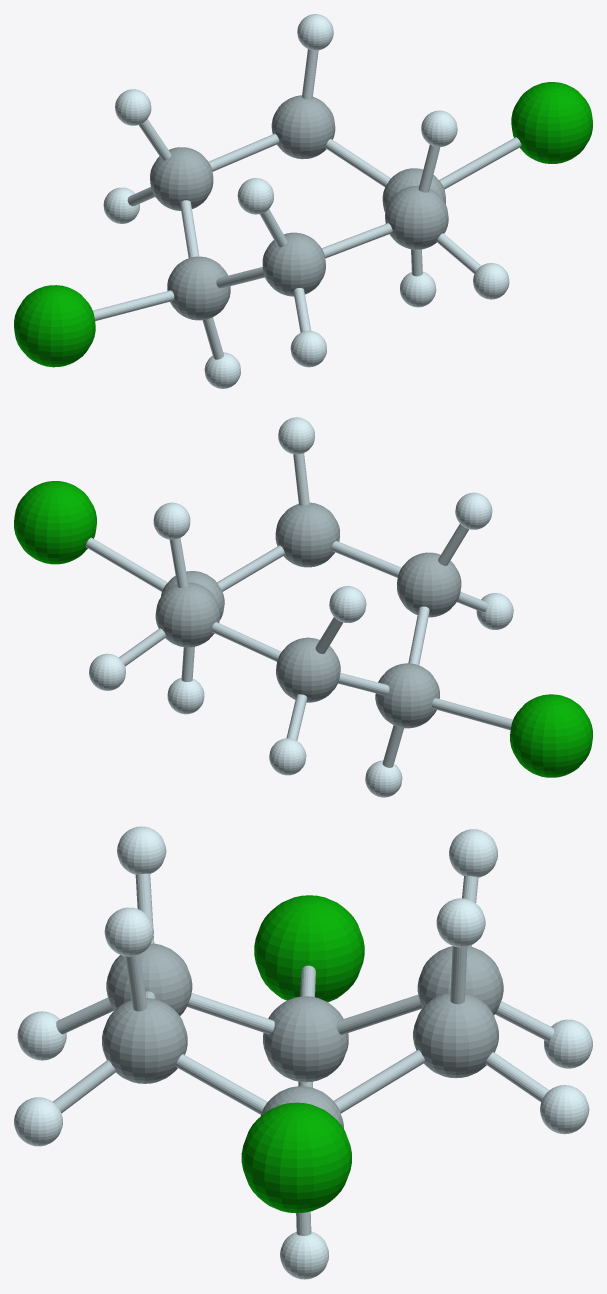
The model's file is irc_step_184.glb.
3 renders of one model, top to bottom at view 1: azimuth 30°, elevation 25°; view 2: azimuth 150°, elevation 25°; view 3: azimuth 270°, elevation 25°, orthographic. The views are drawn at different scales.
Visible parts, largest first — view 1: Renderer Node; view 2: Renderer Node; view 3: Renderer Node.
Boxes of the visible parts, x1=… form: Renderer Node: x1=14, y1=14, x2=592, y2=388; Renderer Node: x1=14, y1=417, x2=592, y2=797; Renderer Node: x1=14, y1=826, x2=592, y2=1279.
Size of the model in its own units: 7.12 by 3.53 by 4.7.
